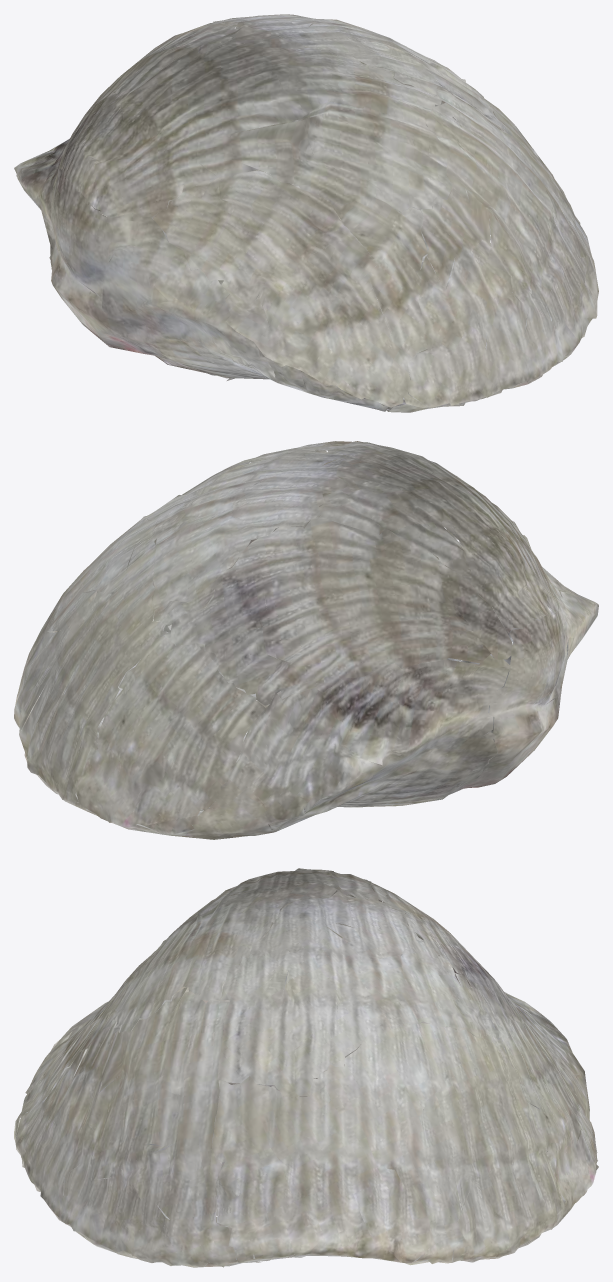
Rendered from brachiopod.glb.
The picture shows the model from 3 angles, top to bottom: view 1: azimuth 30°, elevation 25°; view 2: azimuth 150°, elevation 25°; view 3: azimuth 270°, elevation 25°; orthographic projection. The views are drawn at different scales.
Visible parts, largest first — view 1: Object_2; view 2: Object_2; view 3: Object_2.
Part boxes in pixels (left/top/right/bottom): Object_2: left=14, top=14, right=598, bottom=412; Object_2: left=14, top=441, right=598, bottom=839; Object_2: left=14, top=868, right=598, bottom=1267.
Size of the model in its own units: 0.435 by 0.2591 by 0.4698.
Materials: 1 (1 with a texture image).
